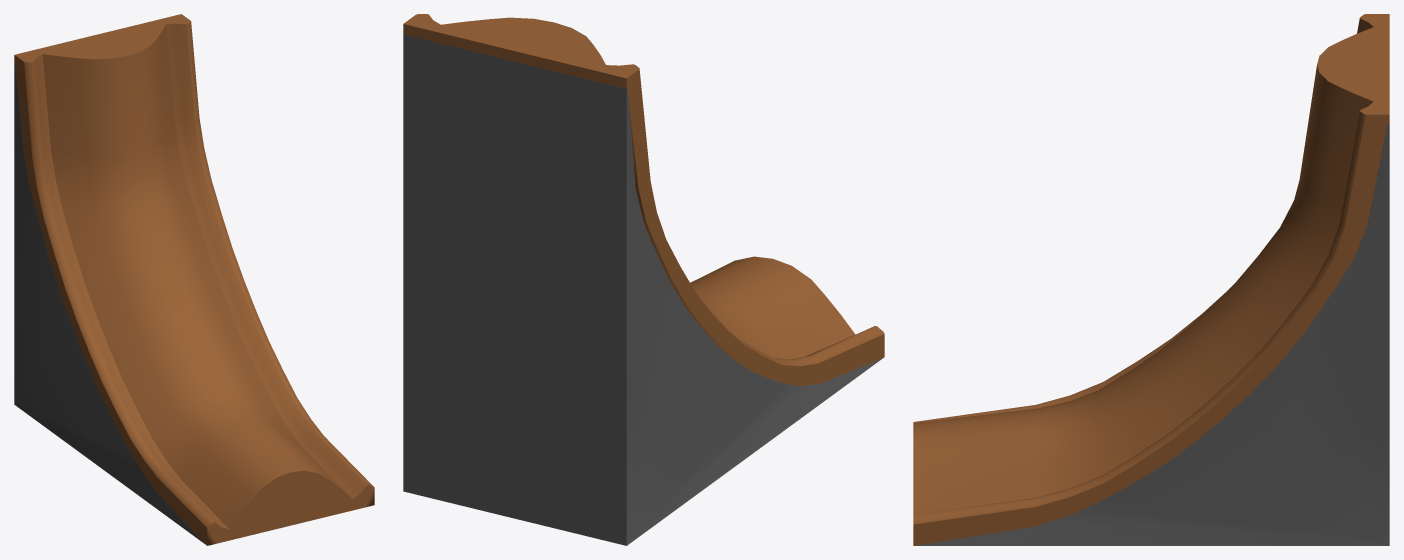
The model's file is 36_38_wall_deco_round_corner_no_wood_gray.glb.
The picture shows the model from 3 angles, left to right: view 1: azimuth 30°, elevation 25°; view 2: azimuth 150°, elevation 25°; view 3: azimuth 270°, elevation 25°; orthographic projection. The views are drawn at different scales.
Visible parts, largest first — view 1: Plane, Plane.001; view 2: Plane.001, Plane; view 3: Plane, Plane.001.
Part boxes in pixels (box(x1,y1,x2,y2)): Plane: box(14, 14, 374, 545); Plane.001: box(14, 63, 206, 545); Plane.001: box(403, 34, 883, 545); Plane: box(403, 14, 884, 385); Plane: box(913, 14, 1389, 545); Plane.001: box(915, 124, 1389, 545).
Size of the model in its own units: 0.75 by 1.5 by 1.5.
